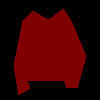abbigliamento_uomo: (13, 8, 86, 95)
